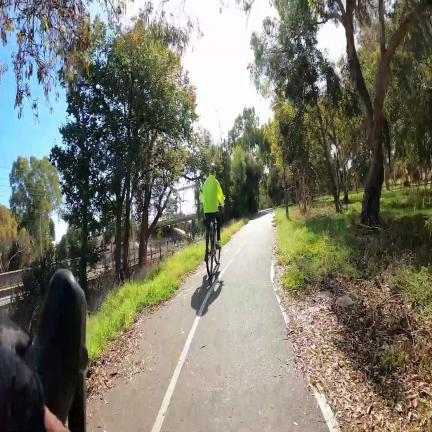Bike_Lane: (88, 212, 329, 432)
